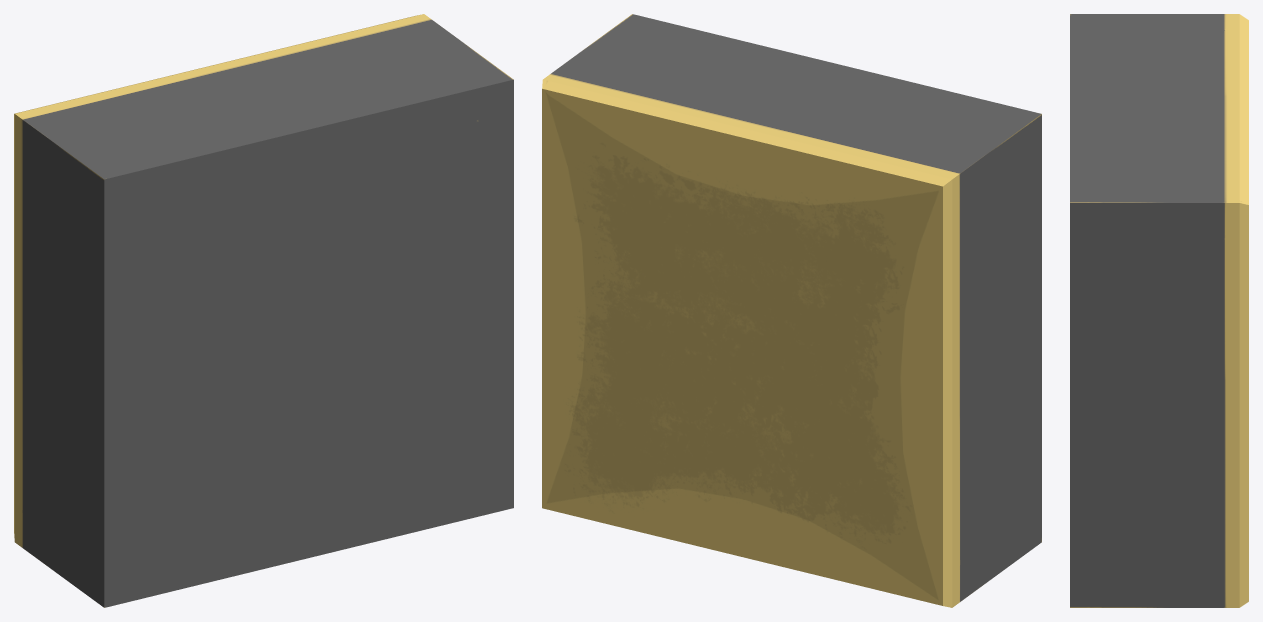
File: Floor_01.fbx
The picture shows the model from 3 angles, left to right: view 1: azimuth 30°, elevation 25°; view 2: azimuth 150°, elevation 25°; view 3: azimuth 270°, elevation 25°; orthographic projection. The views are drawn at different scales.
Parts seen in each view (by area): view 1: Floor_01; view 2: Floor_01; view 3: Floor_01.
Boxes of the visible parts, x1,y1,x2,y2 form: Floor_01: [14, 14, 513, 607]; Floor_01: [542, 14, 1041, 607]; Floor_01: [1070, 14, 1248, 607].
Bounding box in the file's own units: 5 × 5 × 2.
Materials: 1 (1 with a texture image).
